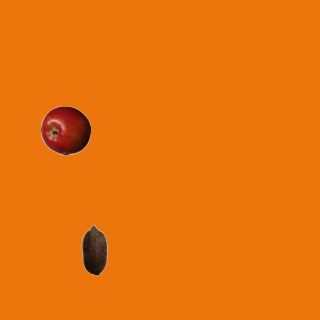Apple Braeburn: (40, 105, 90, 155)
Nut Pecan: (69, 224, 119, 274)
